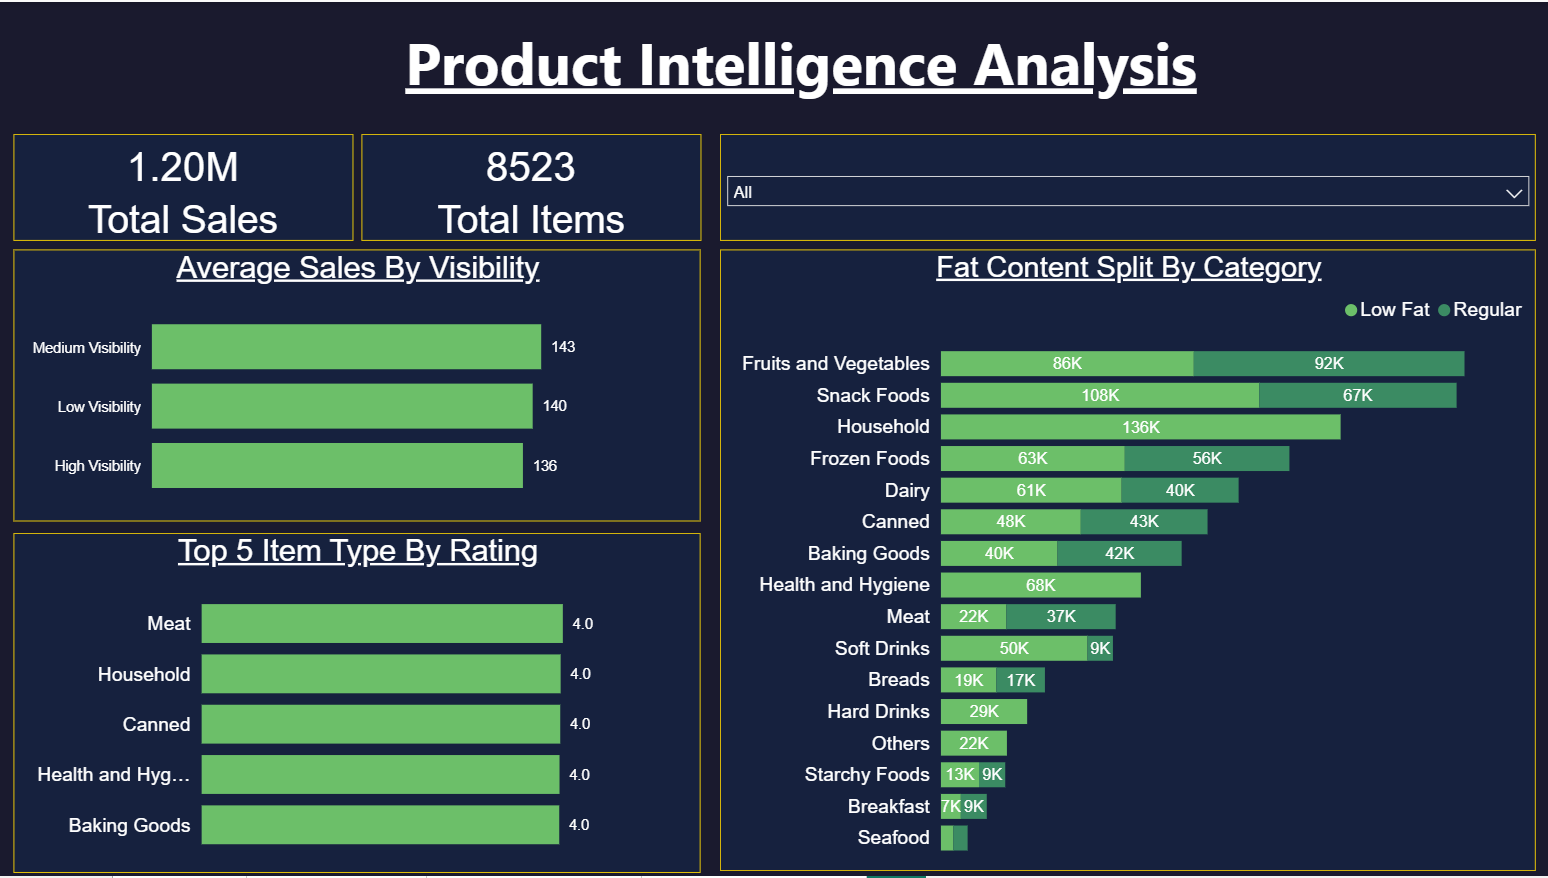

Layout of this report page (visuals, bound fields, positions):
{"tool":"powerbi","page":{"name":"Product Intelligence","canvas":[1280,720],"ordinal":3},"visuals":[{"type":"barChart","title":"Average Sales By Visibility","fields":{"Category":["Blinkit-Grocery-Data(Processed).Visibility Bucket"],"Y":["Measures Table.Average Sales"]},"box":[13.6,204.4,566.3,224.1],"z":0},{"type":"barChart","title":"Top 5 Item Type By Rating","fields":{"Category":["Blinkit-Grocery-Data(Processed).item_type"],"Y":["Measures Table.Average Rating"]},"box":[13.6,437.6,566.3,280.1],"z":1},{"type":"barChart","title":"Fat Content Split By Category","fields":{"Category":["Blinkit-Grocery-Data(Processed).item_type"],"Y":["Measures Table.Total Sales"],"Series":["Blinkit-Grocery-Data(Processed).item_fat_content"]},"box":[595.1,204.4,672.3,511.8],"z":2},{"type":"card","fields":{"Values":["Measures Table.Total Sales"]},"box":[13.6,109,280,87.8],"z":3},{"type":"card","fields":{"Values":["Measures Table.Total Items"]},"box":[299.8,109,280.1,87.8],"z":4},{"type":"slicer","title":"Item Types","fields":{"Values":["Blinkit-Grocery-Data(Processed).item_type"]},"box":[595.1,109,672.3,87.8],"z":5},{"type":"textbox","box":[302.8,10.6,719.2,83.3],"z":6}]}

Visuals, with their boxes in screenshot pixels (x1, y1, x2, y2), scaled from the page's 1280x720 canvas onto the 1548x878 screenshot:
"Average Sales By Visibility" barChart: [16, 249, 701, 523]
"Top 5 Item Type By Rating" barChart: [16, 534, 701, 875]
"Fat Content Split By Category" barChart: [720, 249, 1533, 873]
card - Measures Table.Total Sales: [16, 133, 355, 240]
card - Measures Table.Total Items: [363, 133, 701, 240]
"Item Types" slicer: [720, 133, 1533, 240]
textbox: [366, 13, 1236, 115]
